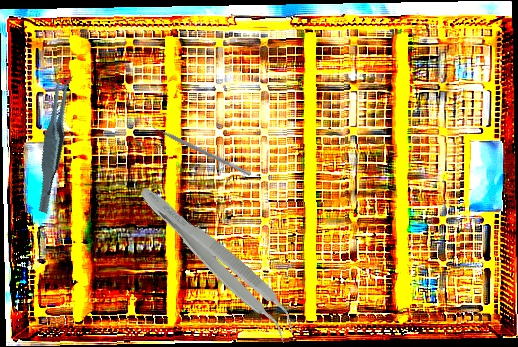Spatula Surgical: (147, 120, 254, 177)
Tissue Forceps: (128, 180, 306, 345), (10, 71, 99, 215)
